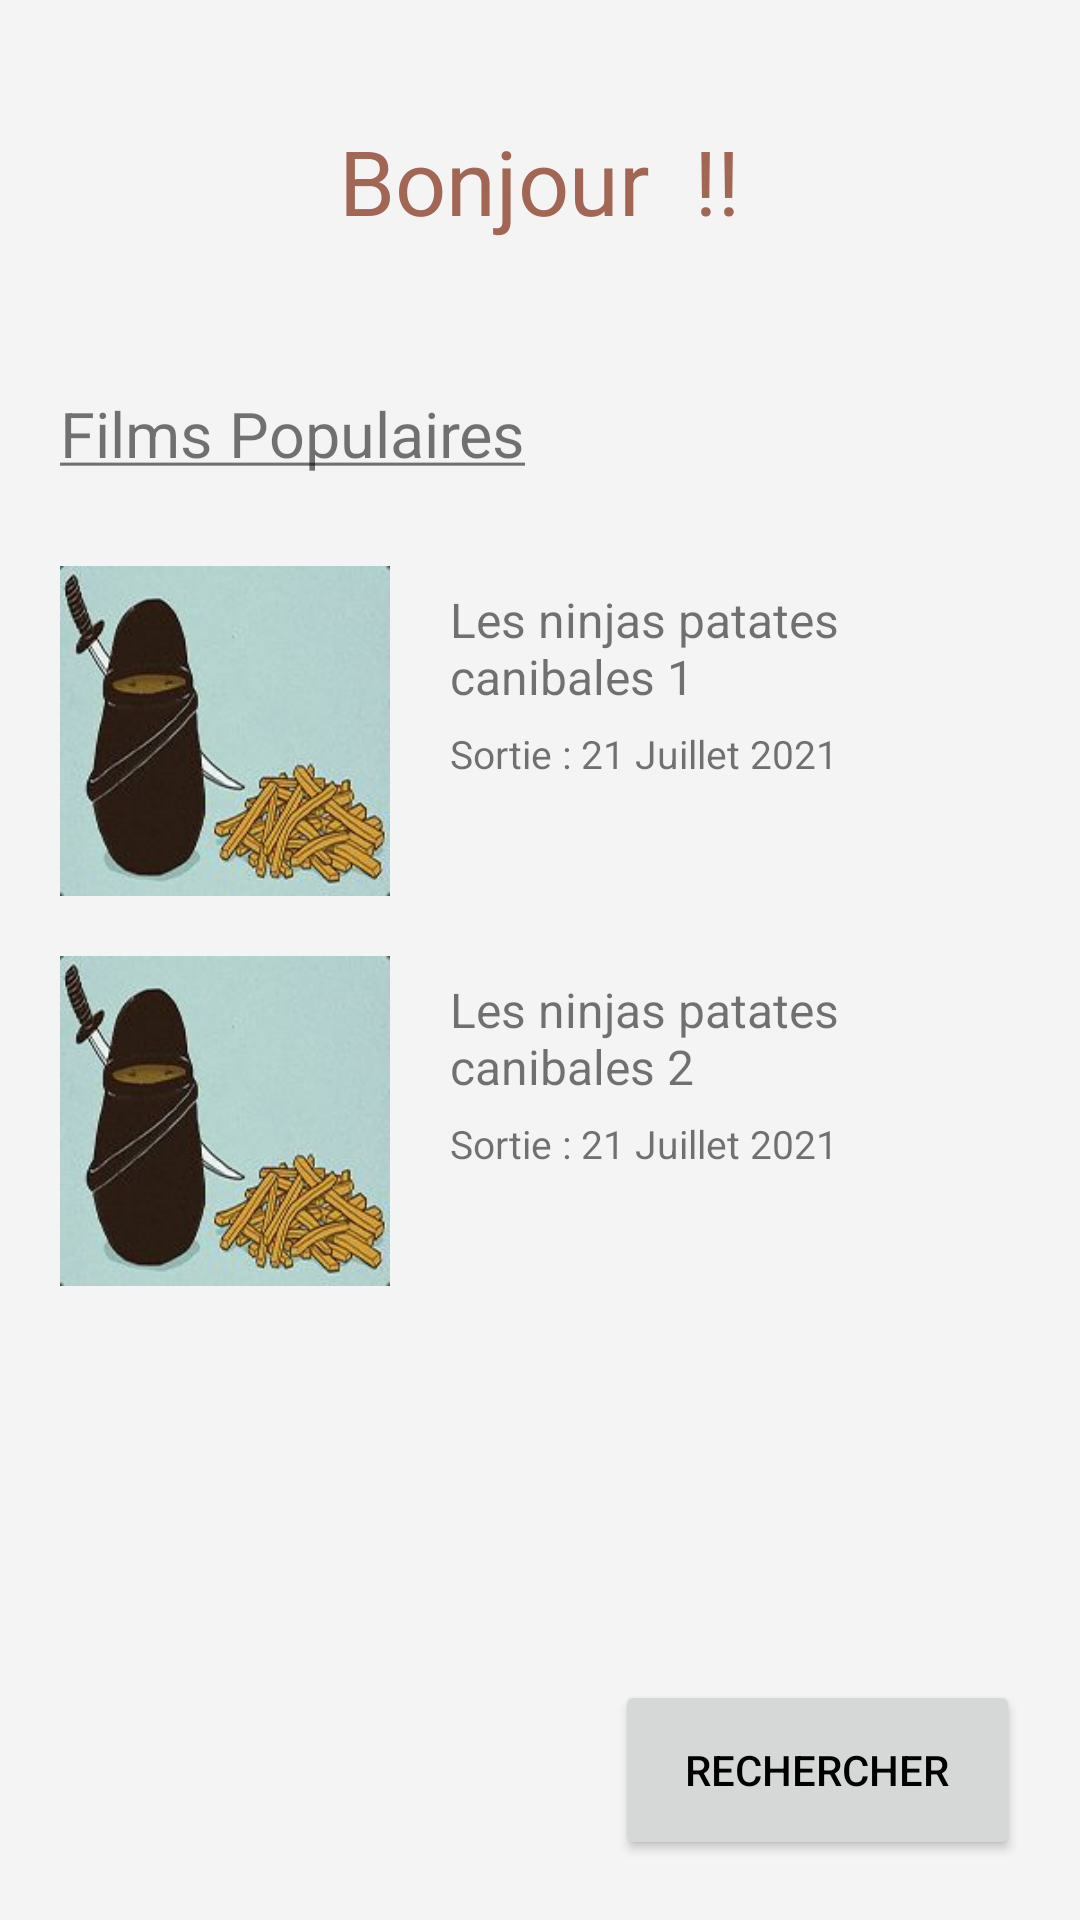

Icons on this 1080x1920 Android screen, each with its box as BBox(x1, y1, x2, y2):
ninja patate: BBox(60, 566, 390, 896), BBox(60, 956, 390, 1286)
